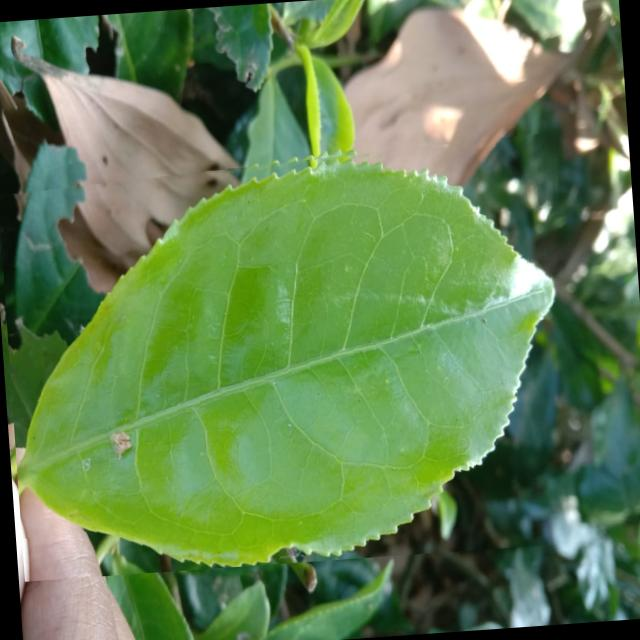Category B 2-4 days: (0, 131, 582, 581)
